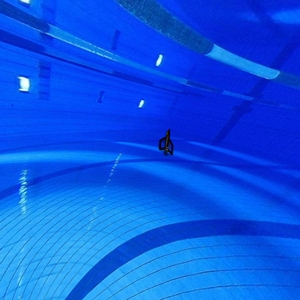submarine: (157, 127, 177, 161)
